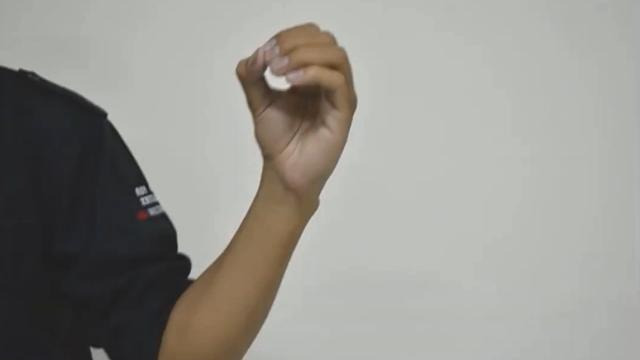O: (226, 16, 360, 200)
